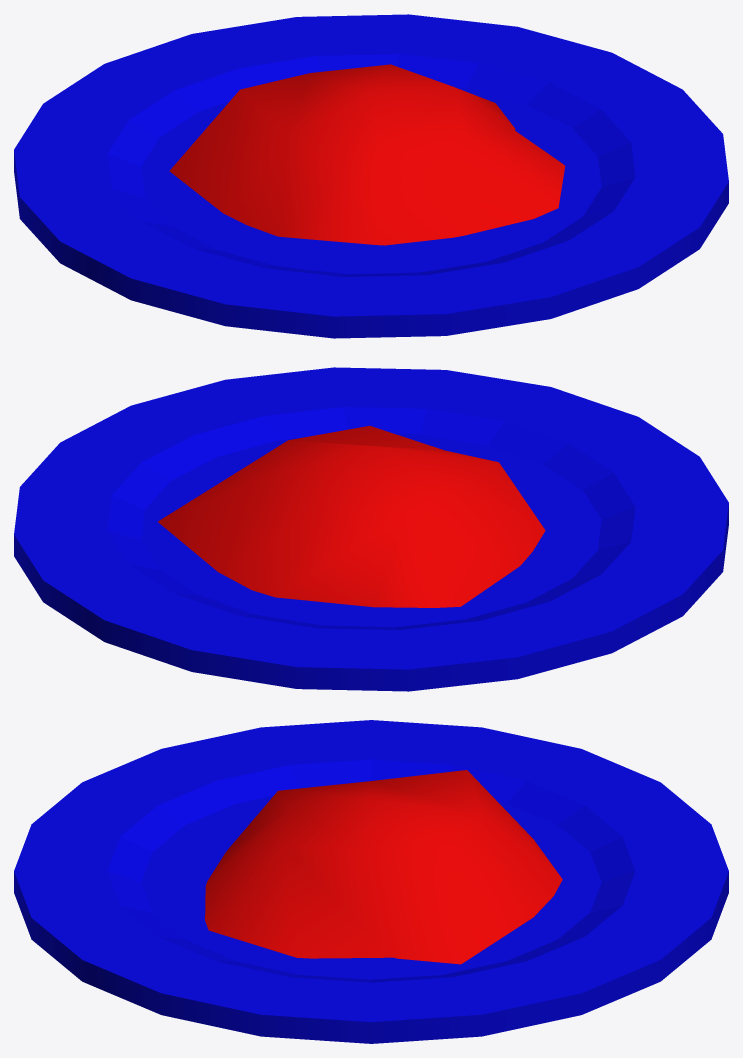
Rendered from nudelgericht_low.fbx.
The picture shows the model from 3 angles, top to bottom: view 1: azimuth 30°, elevation 25°; view 2: azimuth 150°, elevation 25°; view 3: azimuth 270°, elevation 25°; orthographic projection.
Parts seen in each view (by area): view 1: pCylinder1, pPlane1; view 2: pCylinder1, pPlane1; view 3: pCylinder1, pPlane1.
Boxes of the visible parts, bbox=[...] form: pCylinder1: bbox=[14, 14, 728, 338]; pPlane1: bbox=[169, 64, 565, 245]; pCylinder1: bbox=[14, 367, 728, 691]; pPlane1: bbox=[158, 425, 545, 607]; pCylinder1: bbox=[14, 720, 728, 1043]; pPlane1: bbox=[205, 770, 562, 964].
Bounding box in the file's own units: 1.6 × 0.2804 × 1.6.
